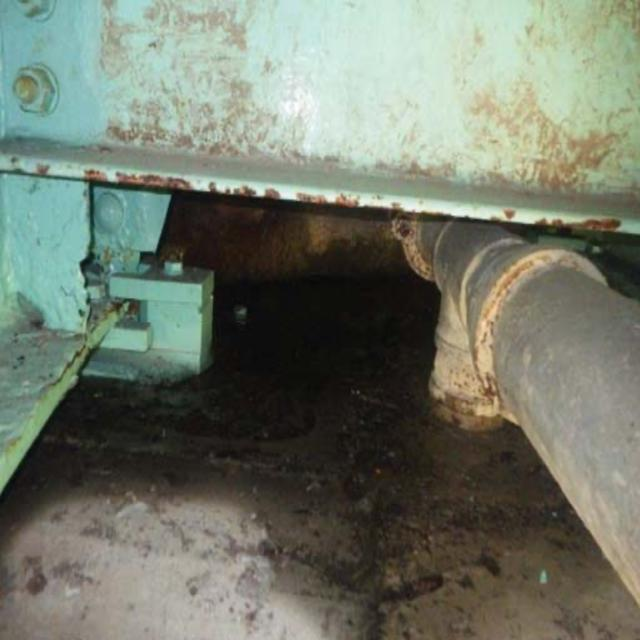corrosion: (30, 95, 624, 252)
